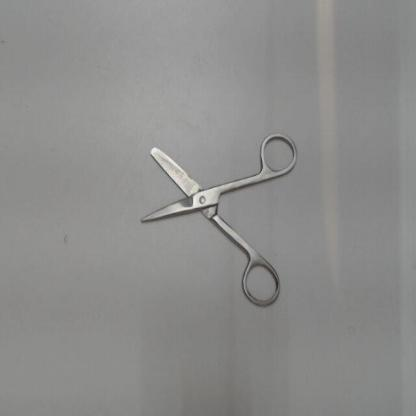Dressing Scissors: (131, 126, 305, 315)
